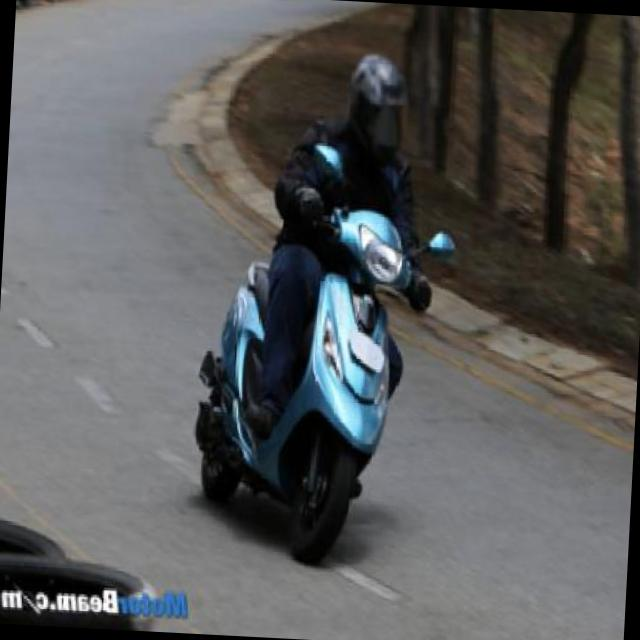With Helmet: (337, 46, 414, 168)
